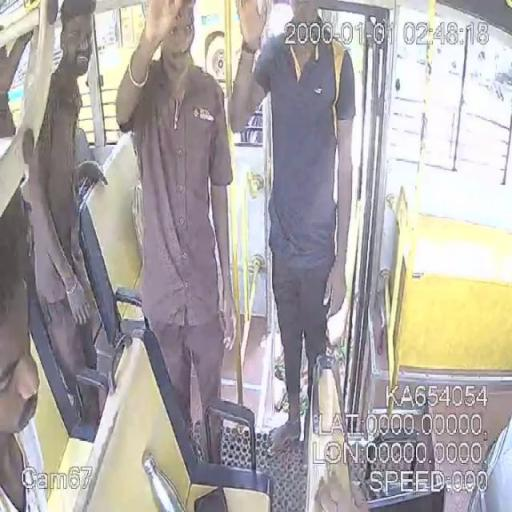persona: (228, 0, 358, 454), (114, 0, 238, 450), (21, 1, 111, 444), (0, 180, 47, 511)
